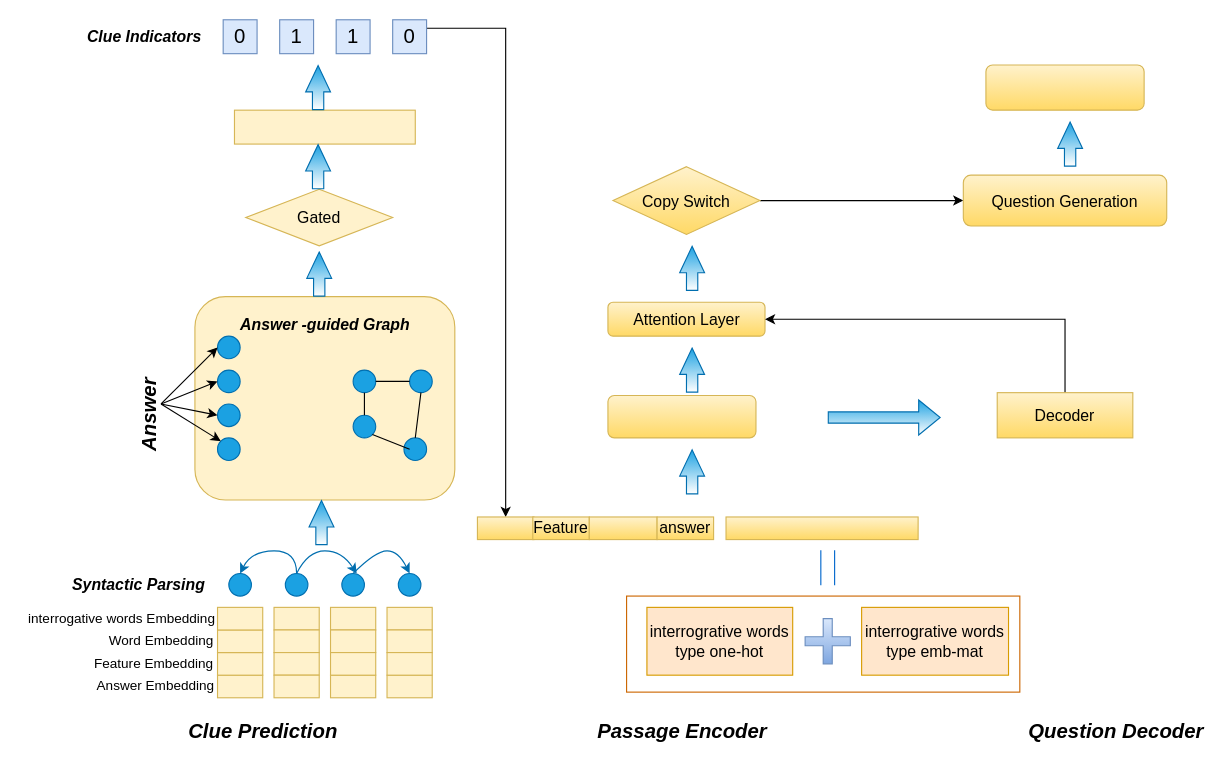
Image size: 1231x764. Some labels were removed from this diagram. Each missing label, with the box of its shape:
BiGRU: (607, 394, 756, 438)
Clue: (476, 516, 534, 540)
Gumbel-softmax: (233, 109, 415, 144)
interrogative words type: (725, 516, 918, 540)
Output Question: (985, 64, 1144, 110)
word: (588, 516, 657, 540)
